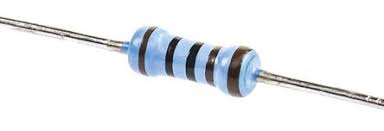resistor: (89, 9, 274, 110)
